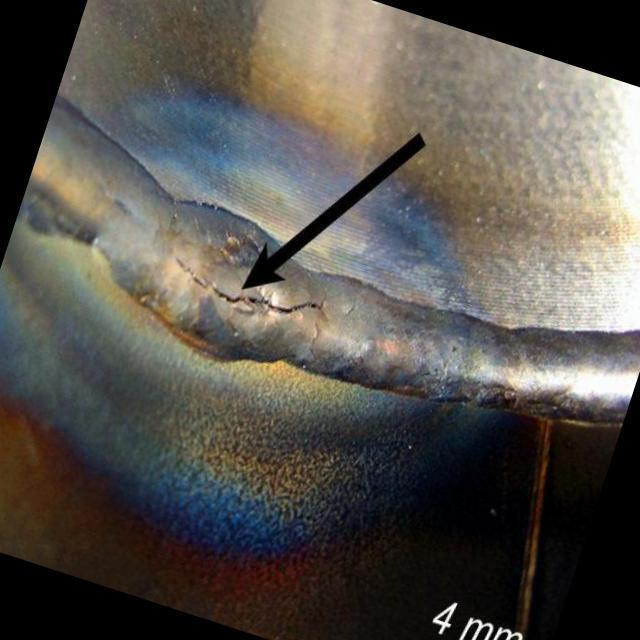defect: (173, 254, 333, 324)
